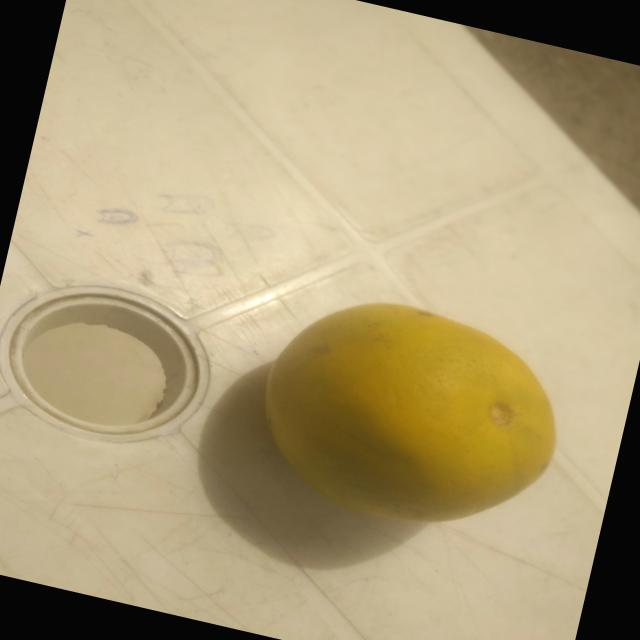Ripe orange: (241, 275, 584, 558)
